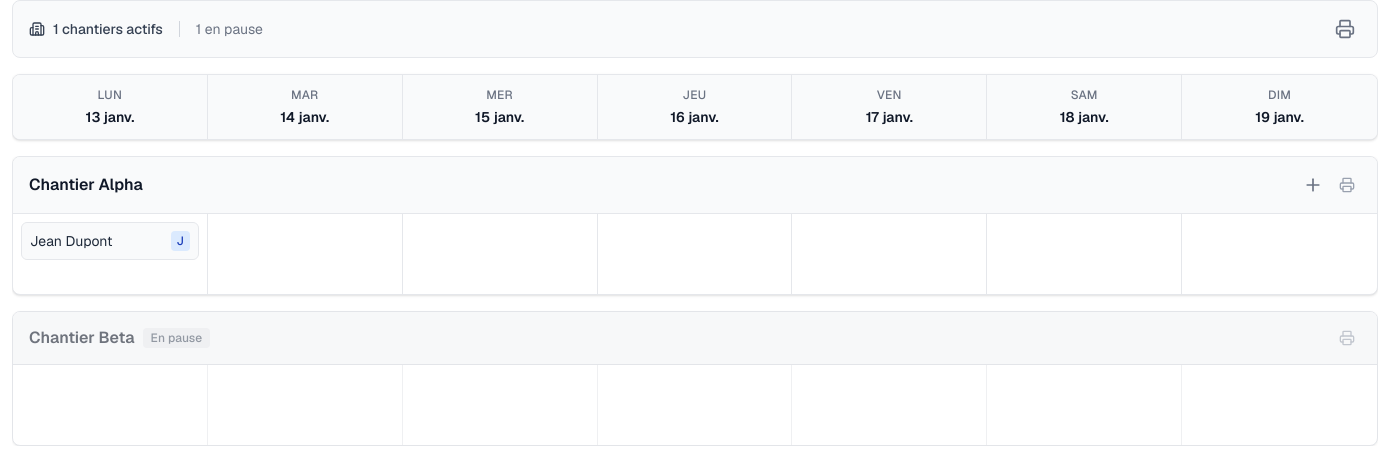
Test: VueChantierClient › Context menu interactions (AC: 1) › should open context menu on affectation click
Note: Find the affectation badge and click it
Click the text "Jean Dupont".
click(71, 241)  # box [30,231,112,251]
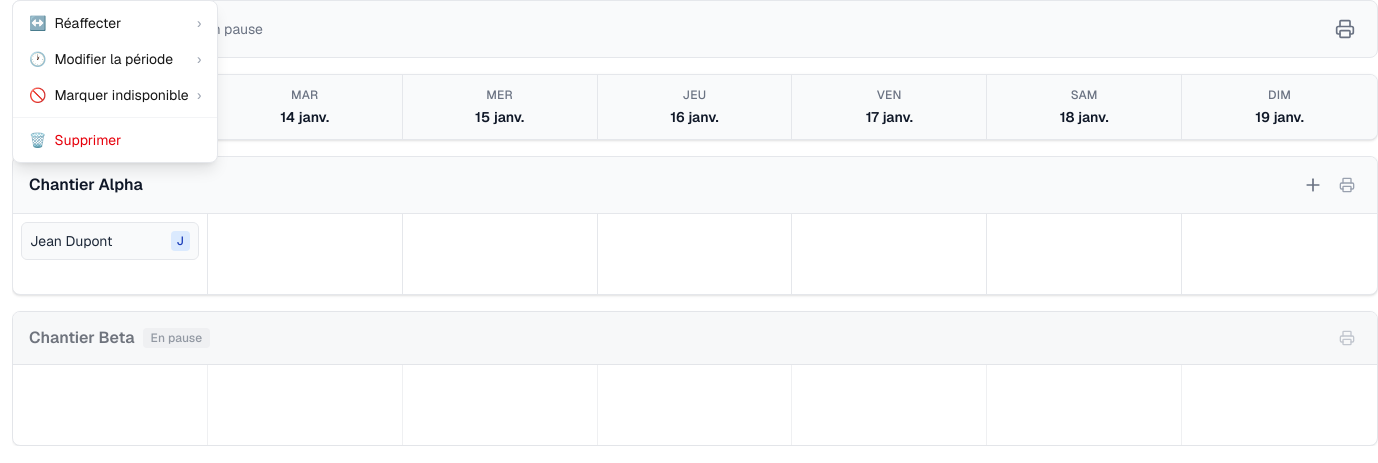
Now the text "Réaffecter" is shown, box [54,13,121,33]
Now the text "Supprimer" is shown, box [54,130,121,150]
